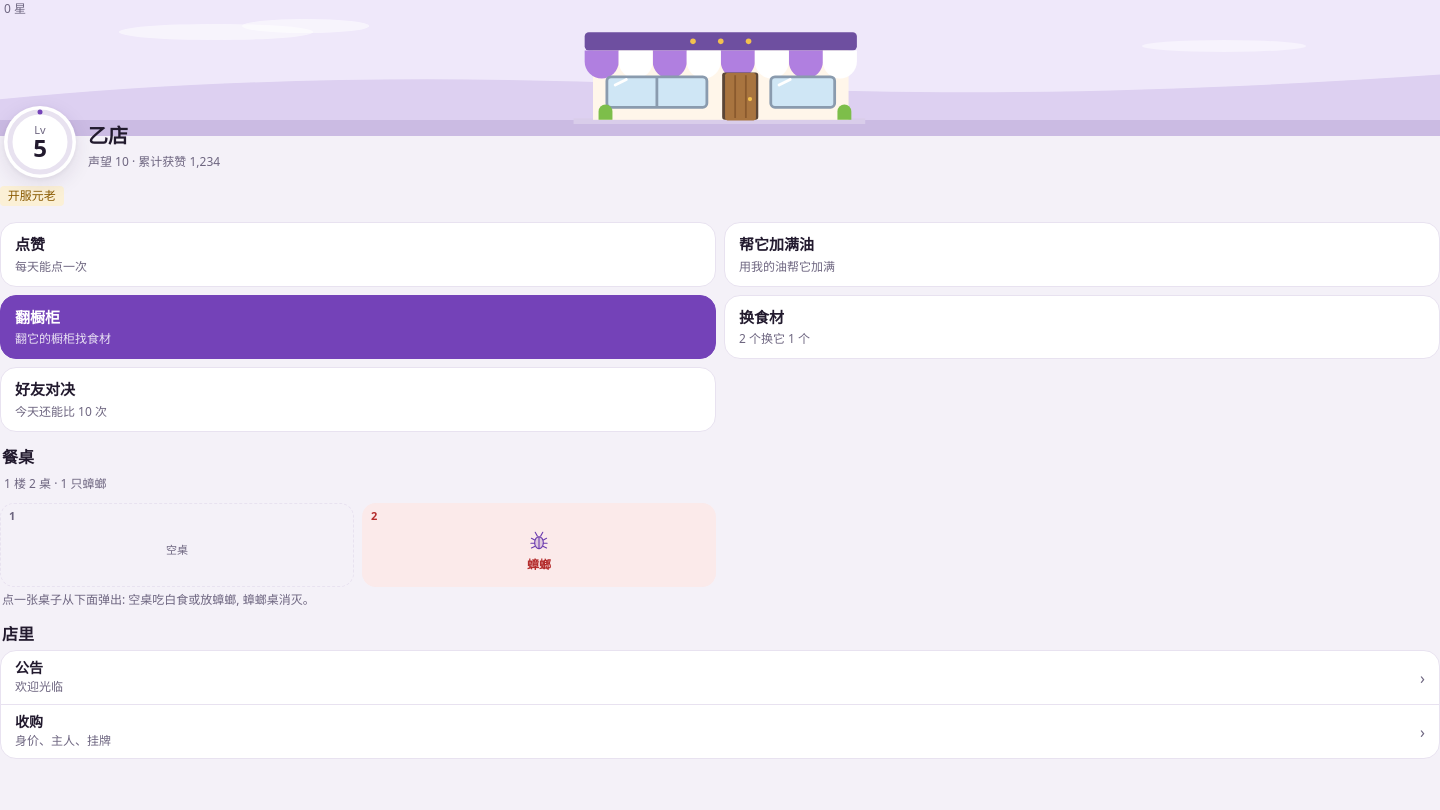
Test case: FriendRestView › 收购卡片（收购 PR 3）：别人的店显示；蟹老板、自己的店、区服关了收购不显示
This screenshot has width=1440, height=810.
// “店里”的收购一行，点开面板才是收购卡片（界面改版 P10）
Click the button with test id "friend-acquire": (63, 741) [1,704,1439,758]
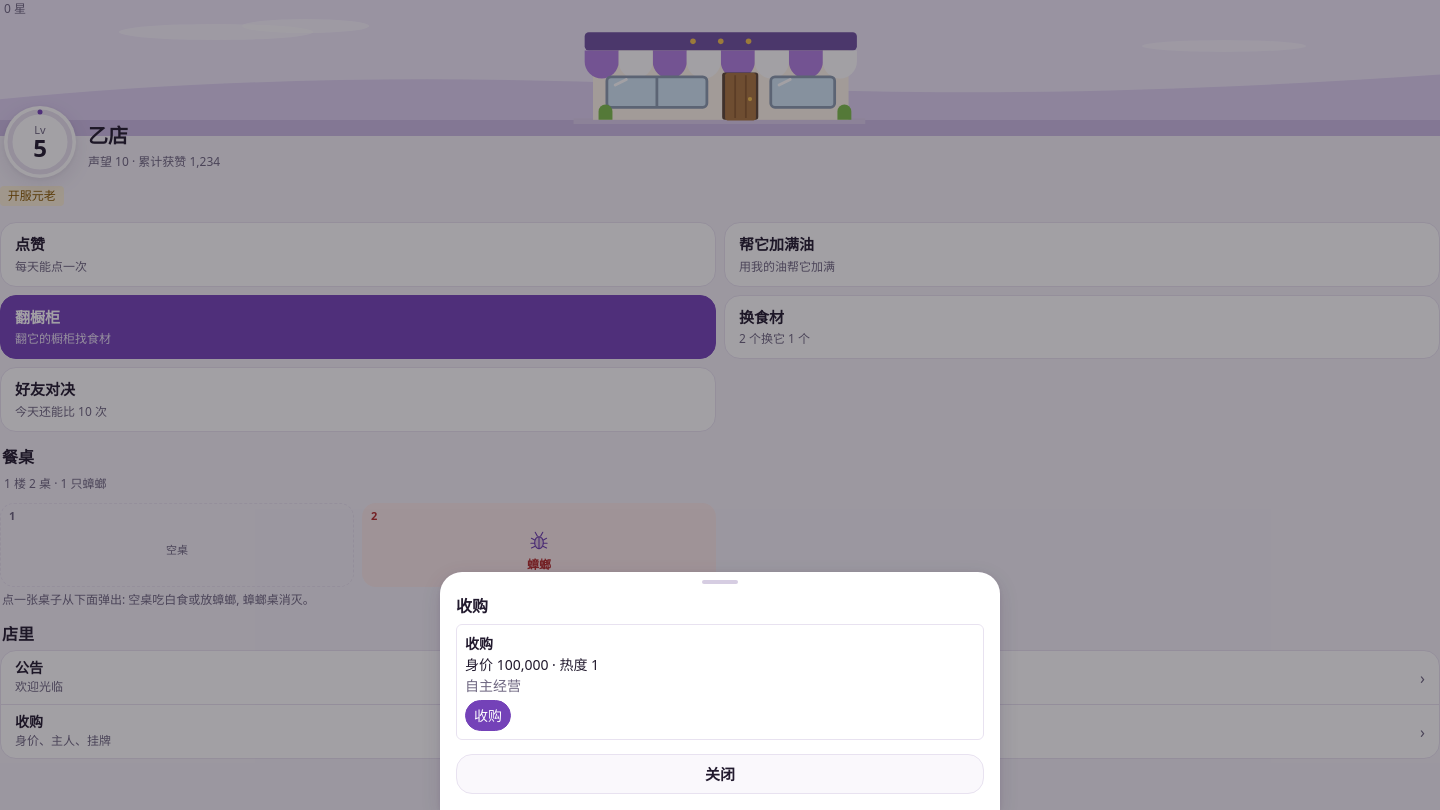
Now the element with test id "acquire-card" is shown, box [456,624,984,740]
